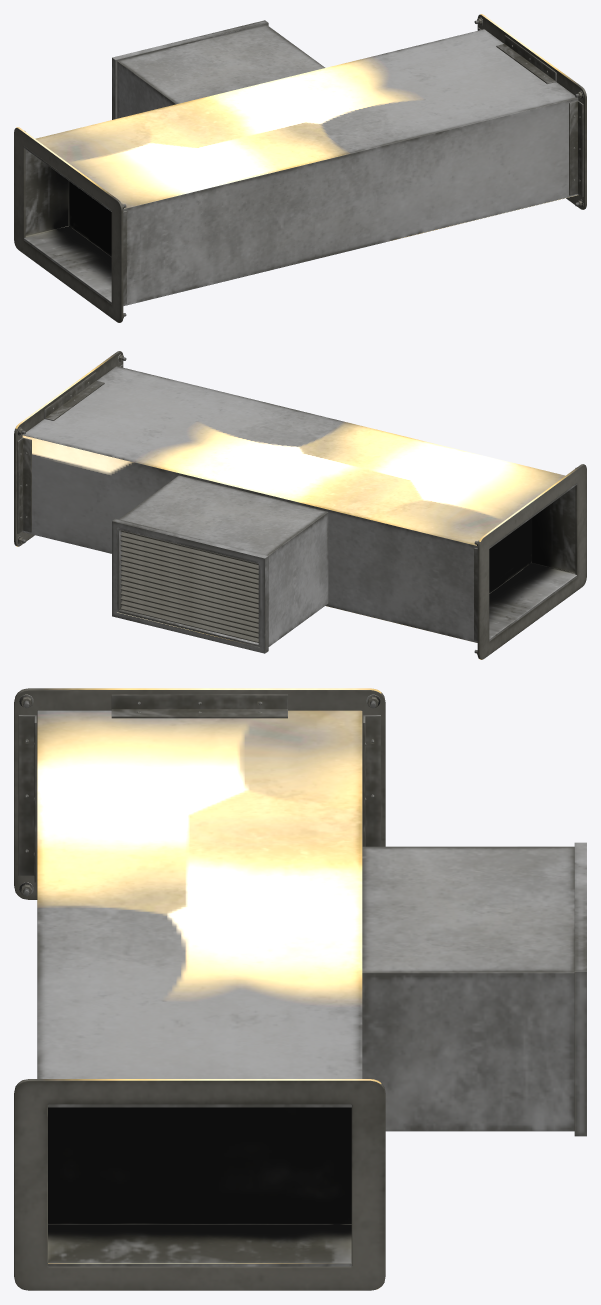
The model's file is SM_Ventilation_Set_04a.fbx.
The picture shows the model from 3 angles, top to bottom: view 1: azimuth 30°, elevation 25°; view 2: azimuth 150°, elevation 25°; view 3: azimuth 270°, elevation 25°; orthographic projection. The views are drawn at different scales.
Visible parts, largest first — view 1: SM_Ventilation_Set_04a_LOD0; view 2: SM_Ventilation_Set_04a_LOD0; view 3: SM_Ventilation_Set_04a_LOD0.
Part boxes in pixels (box(x1,y1,x2,y2)): SM_Ventilation_Set_04a_LOD0: box(14, 14, 586, 322); SM_Ventilation_Set_04a_LOD0: box(14, 351, 586, 659); SM_Ventilation_Set_04a_LOD0: box(14, 688, 586, 1290).
Bounding box in the file's own units: 200 × 123 × 50.
